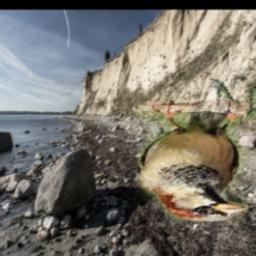Cuckoo: (209, 78, 234, 101)
Sparrow: (138, 101, 247, 222)
